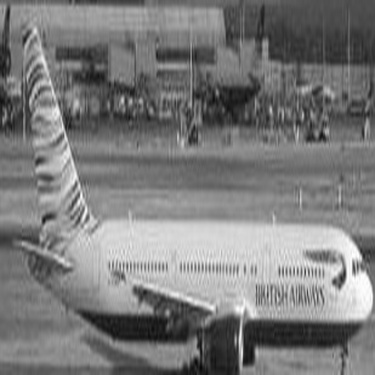airplane: (7, 13, 370, 371)
